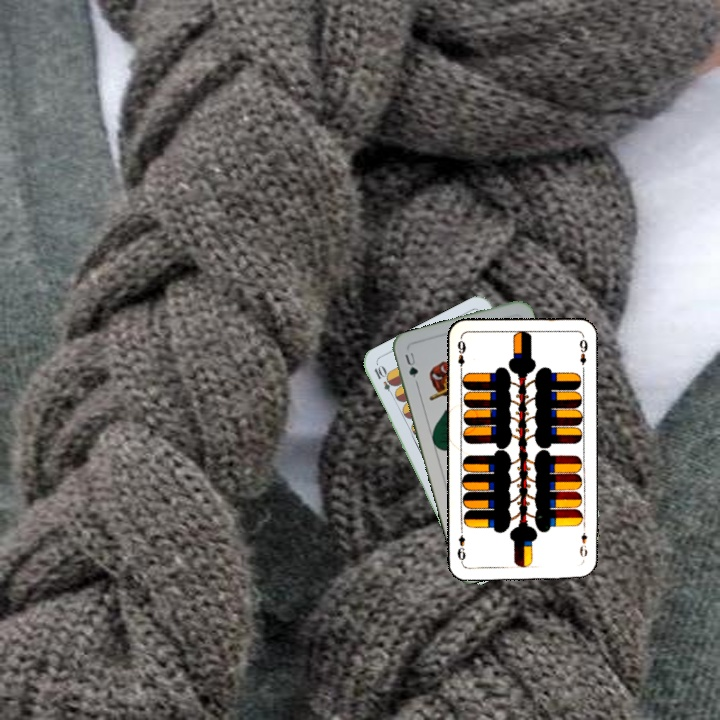E10: (370, 362, 398, 400)
E9: (453, 334, 468, 375), (576, 522, 590, 560)
GU: (401, 348, 421, 380)
